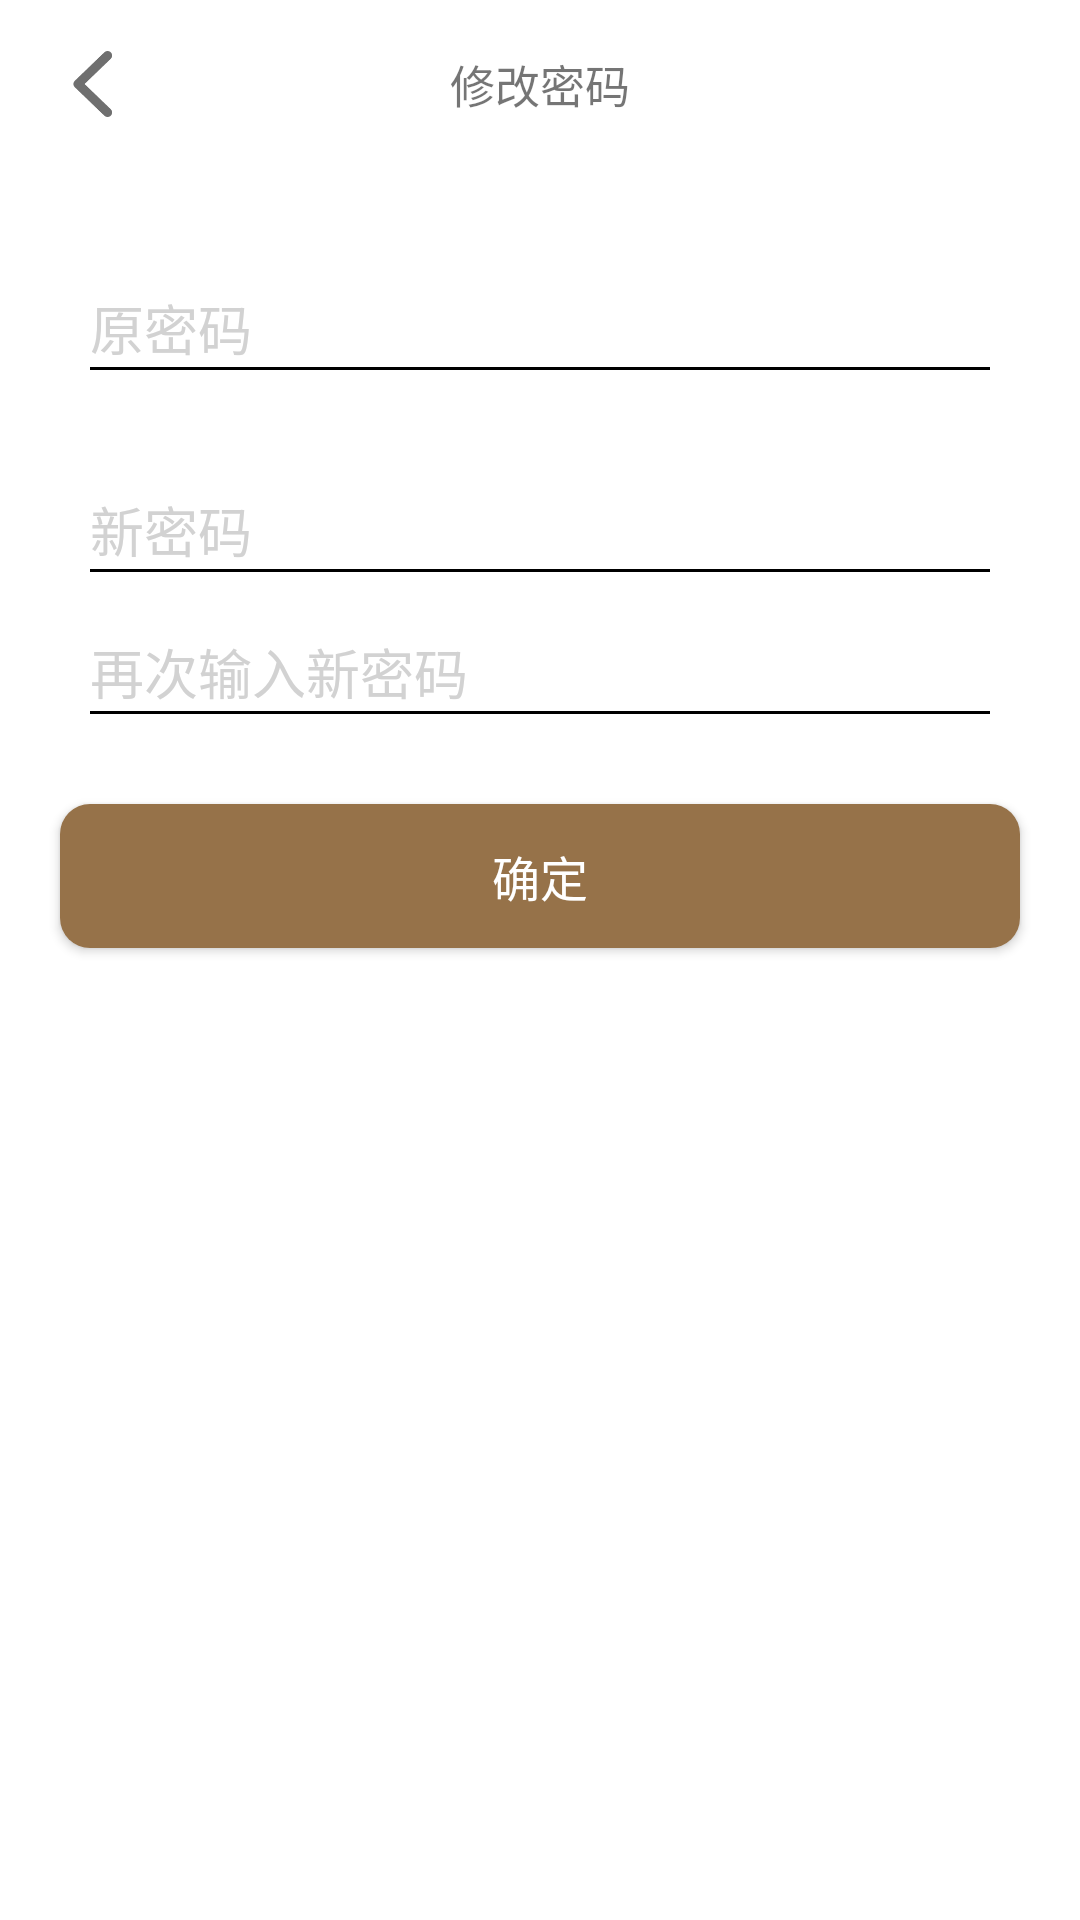

Named icons in this screenshot (1080px x 1920px) and their centers, [x,y]:
back: [92,84]
